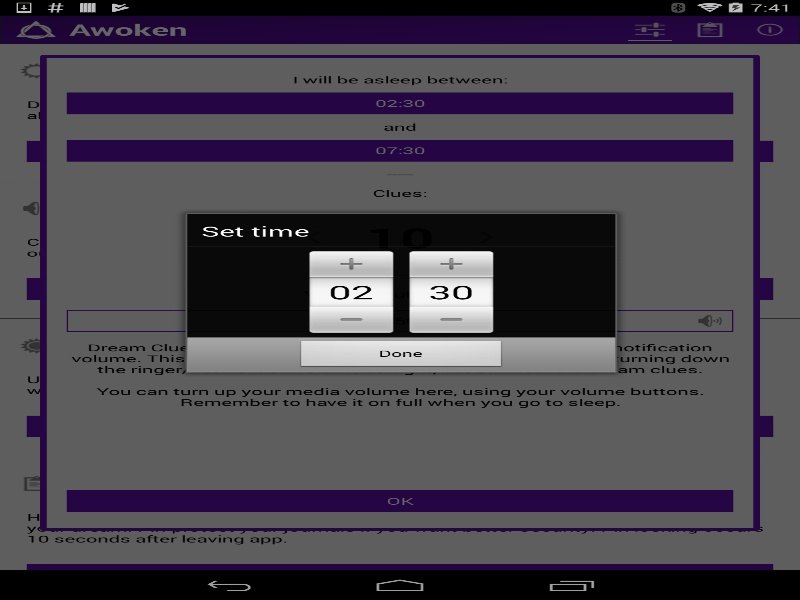Button: (296, 340, 506, 370), (304, 249, 398, 277), (304, 306, 398, 334), (404, 249, 498, 277), (404, 306, 498, 334)
Input: (304, 277, 398, 306), (404, 277, 498, 306)
